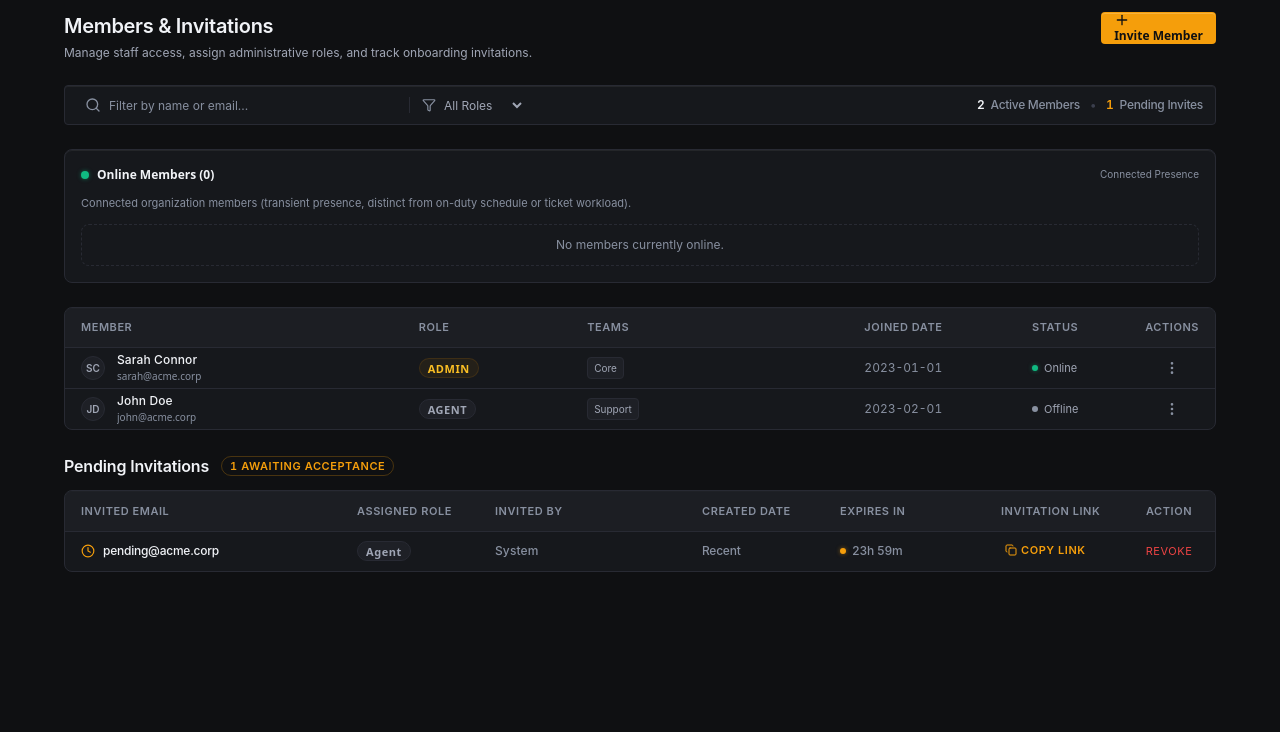
it: MembersView Component › filters members list by search query
Type "john" into the field with test id "members-search-input" at (237, 105), box [77,98,397,112]
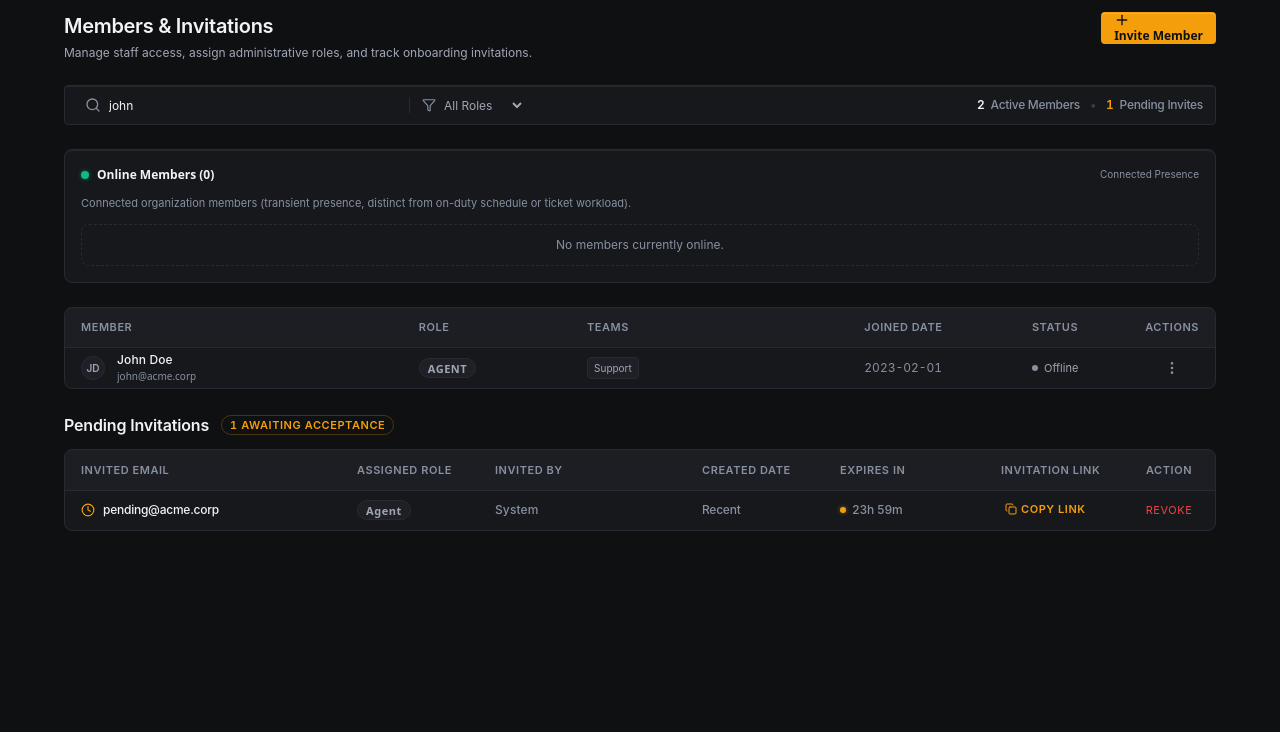
expect the text "John Doe" is shown: met, box [117,352,173,367]
expect the text "Sarah Connor" is gone: met
